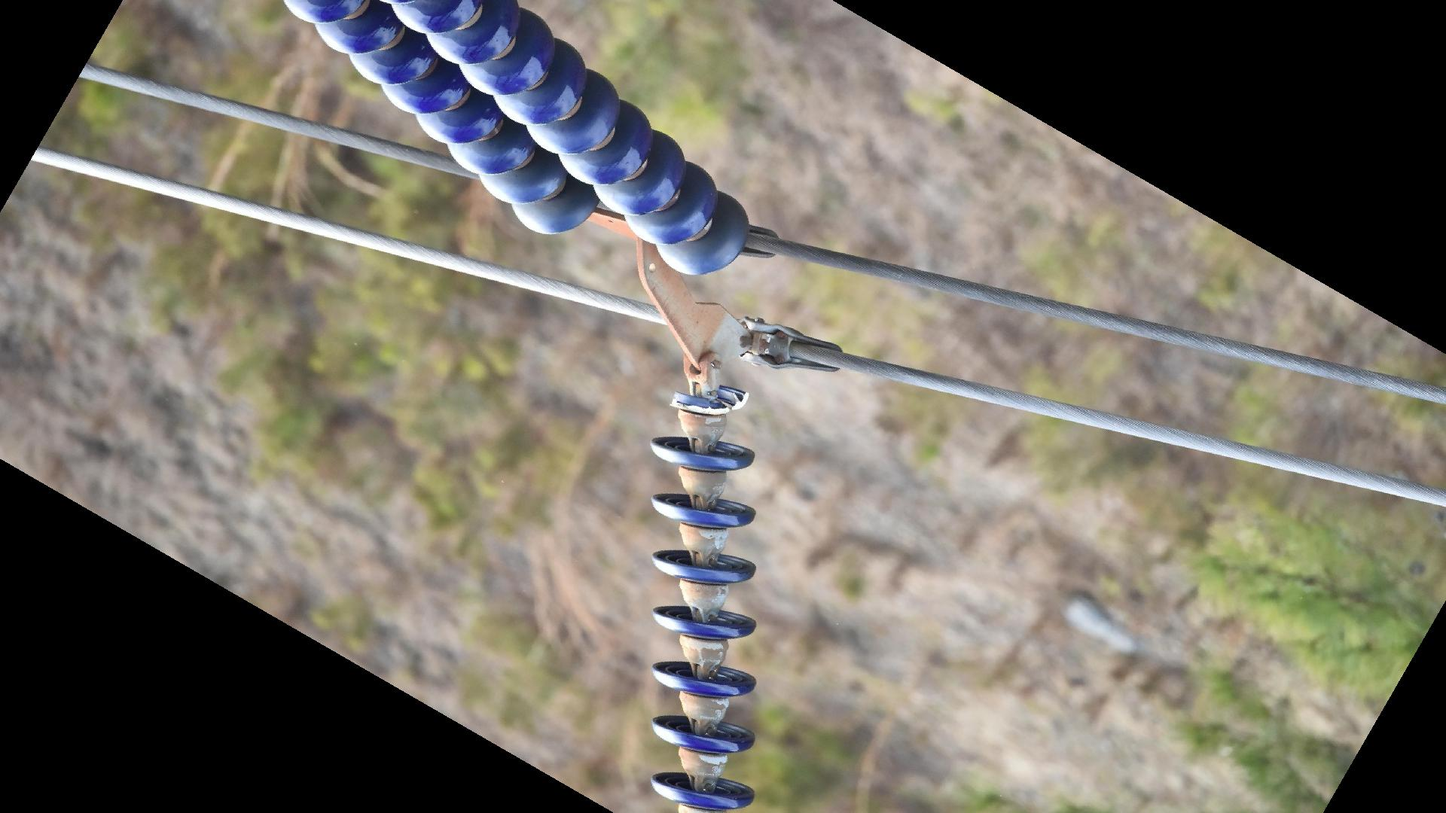insulator: (373, 1, 755, 282), (272, 1, 600, 243), (640, 376, 761, 813)
insulator_breakage: (667, 382, 752, 419)
